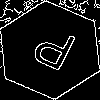P: (25, 25, 79, 80)
